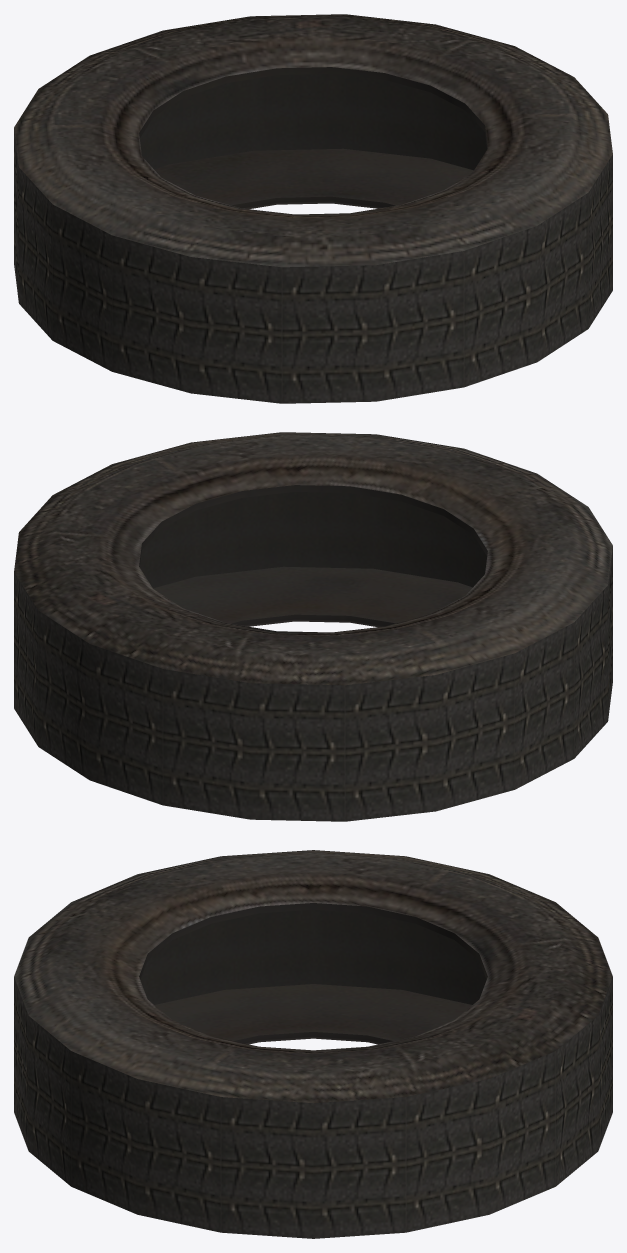
File: tire_1.obj
3 renders of one model, top to bottom at view 1: azimuth 30°, elevation 25°; view 2: azimuth 150°, elevation 25°; view 3: azimuth 270°, elevation 25°, orthographic.
Parts seen in each view (by area): view 1: tire_1; view 2: tire_1; view 3: tire_1.
Part boxes in pixels (x1,y1,x2,y2): tire_1: (14, 14, 612, 403); tire_1: (14, 432, 612, 821); tire_1: (14, 850, 612, 1238).
Bounding box in the file's own units: 0.8 × 0.2366 × 0.8.
